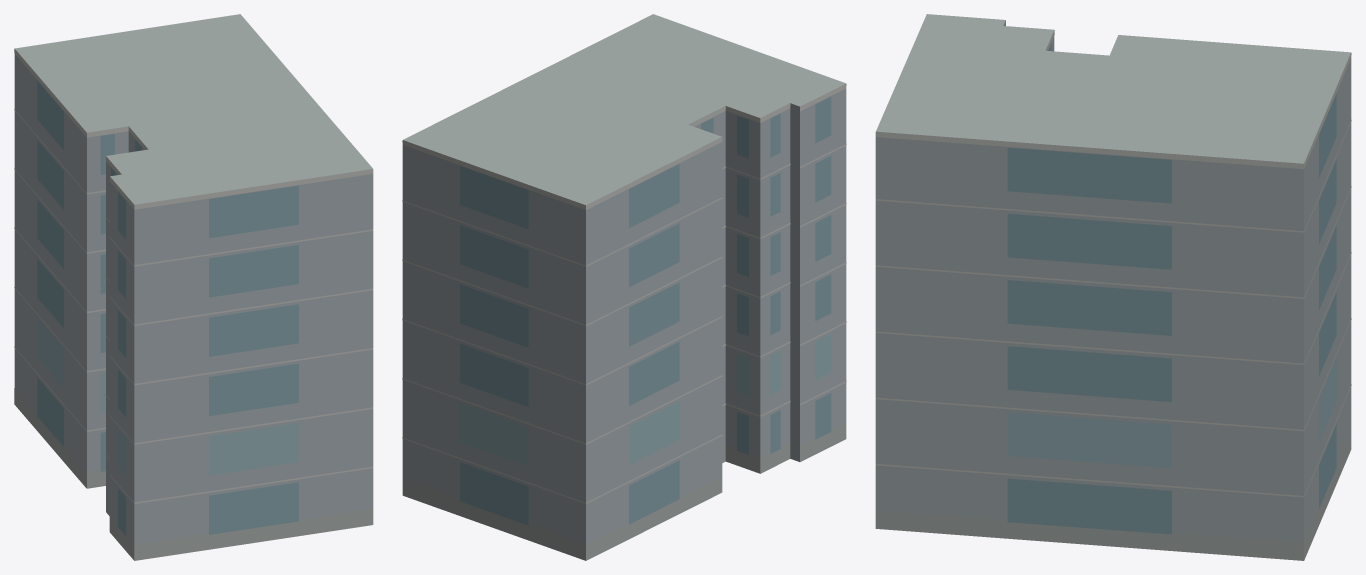
File: survey-upis-33016156.glb
The picture shows the model from 3 angles, left to right: view 1: azimuth 30°, elevation 25°; view 2: azimuth 150°, elevation 25°; view 3: azimuth 270°, elevation 25°; orthographic projection. The views are drawn at different scales.
Parts seen in each view (by area): view 1: survey-upis-33016156.tmp; view 2: survey-upis-33016156.tmp; view 3: survey-upis-33016156.tmp.
Part boxes in pixels (x1,y1,x2,y2): survey-upis-33016156.tmp: [14, 14, 373, 560]; survey-upis-33016156.tmp: [402, 14, 846, 560]; survey-upis-33016156.tmp: [875, 14, 1351, 560].
Size of the model in its own units: 14.34 by 17.7 by 19.23.
